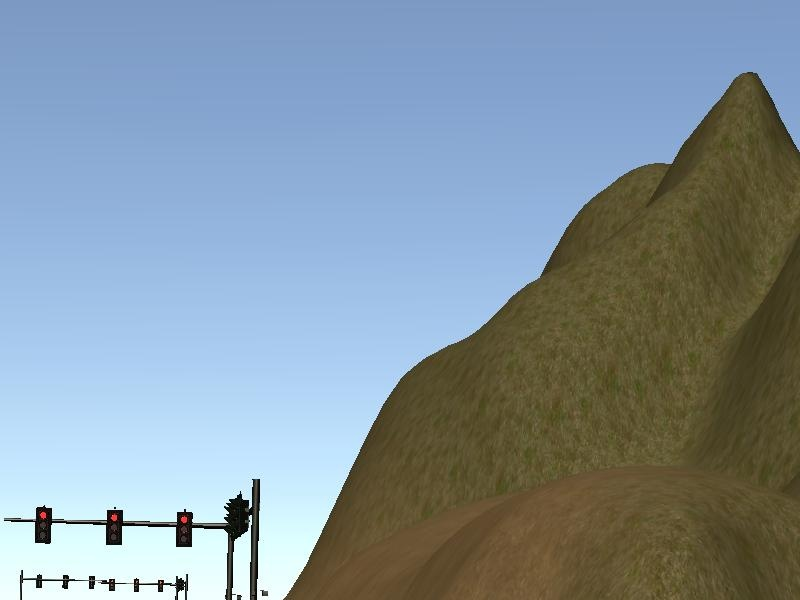red: (34, 505, 54, 548), (172, 509, 194, 548), (103, 509, 123, 549)
